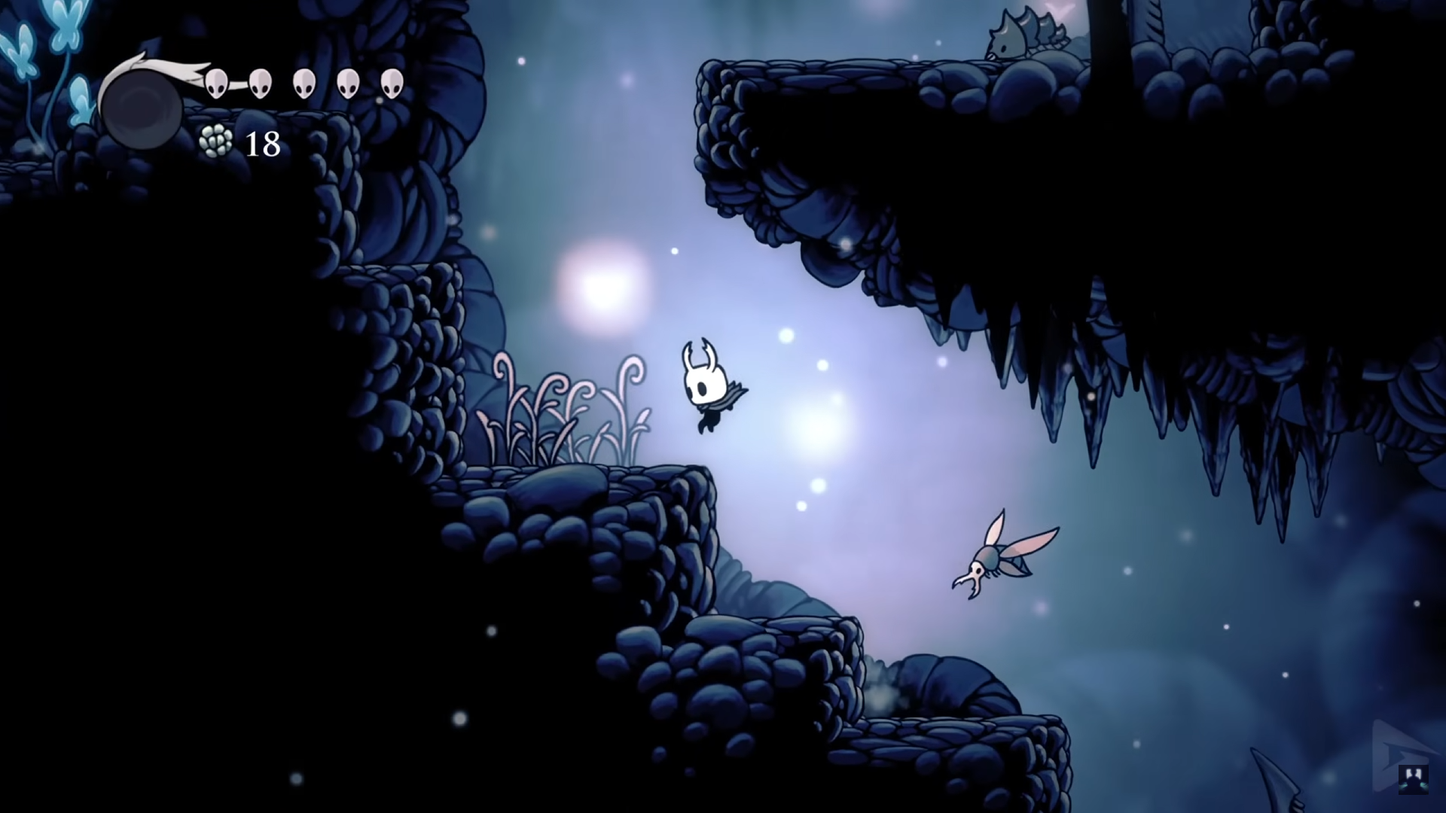HK: (678, 333, 739, 439)
